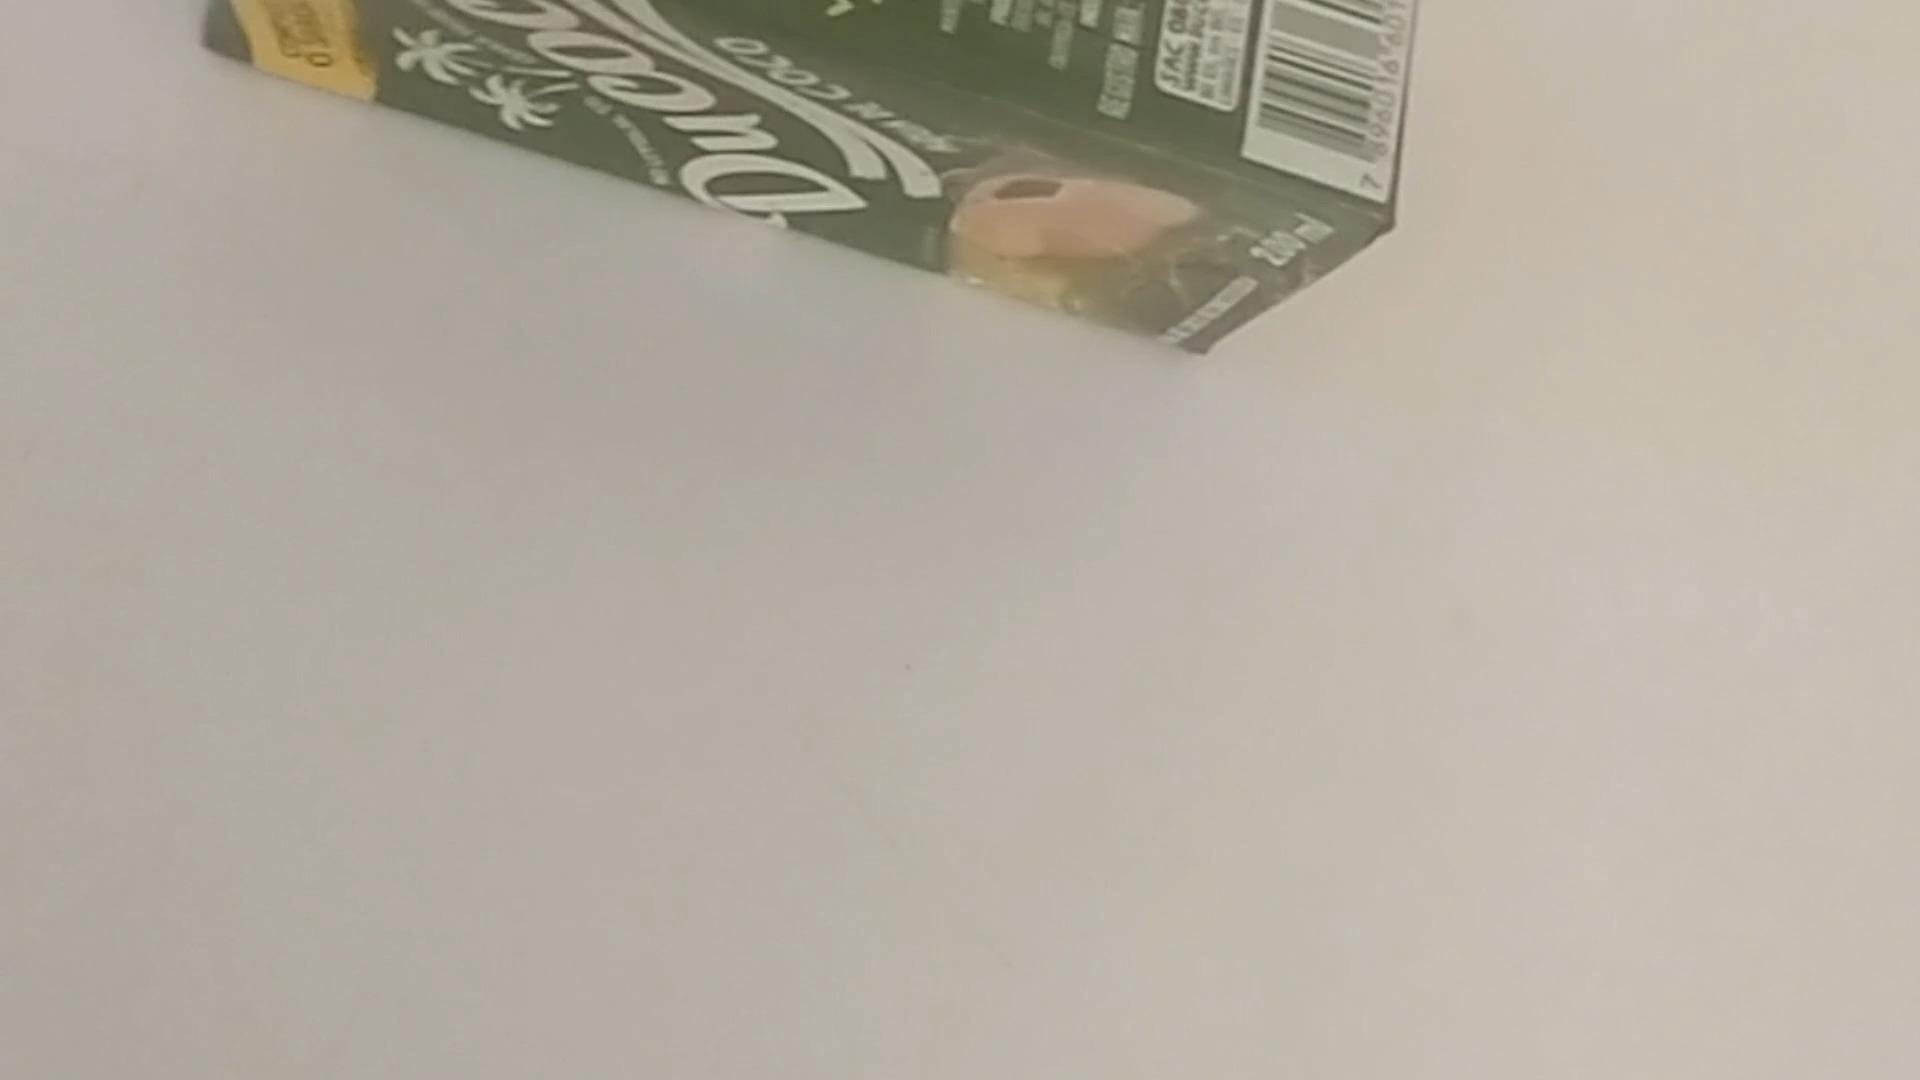coco: (198, 0, 1418, 371)
